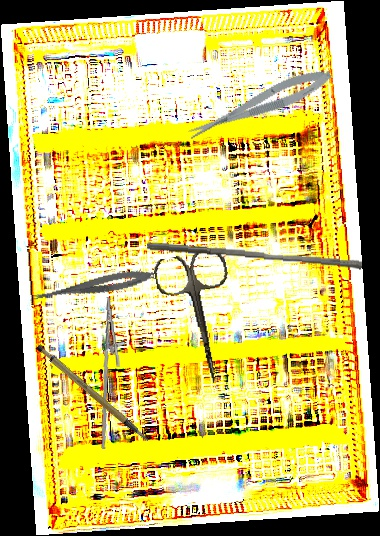Iris Scissors: (152, 247, 248, 391)
Micro Scissor: (183, 62, 336, 145), (28, 265, 156, 309)
Needle Holder: (88, 295, 135, 450)
Pusher: (146, 241, 363, 270)
Scalpel Handle: (33, 331, 150, 458)
